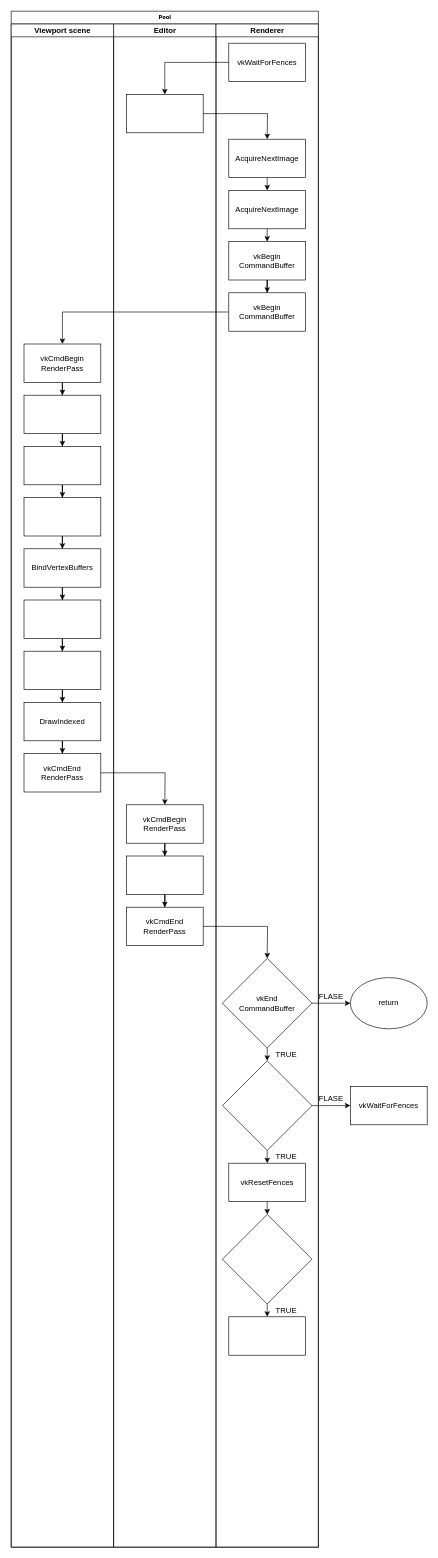
Image size: 438x1558. Some labels were removed from this diagram. The shapes that lost their labels are listed below. From the top down, each one's box as (x1, y1, x2, y2) in pixels, then its label:
(126, 94, 203, 133): PrepareDrawData
(23, 395, 101, 434): vkCmdSetViewport
(23, 446, 101, 485): vkCmdSetScissor
(23, 497, 101, 536): BindPipeline
(23, 599, 101, 638): BindIndexBuffer
(23, 651, 101, 690): BindDescriptorSet
(126, 855, 203, 894): Bind EditorCommands
(222, 1060, 312, 1150): ImagesInFlight [imageIndex] != NULL
(222, 1214, 312, 1304): vkQueueSubmit
(228, 1316, 306, 1355): vkQueuePresentKHR
